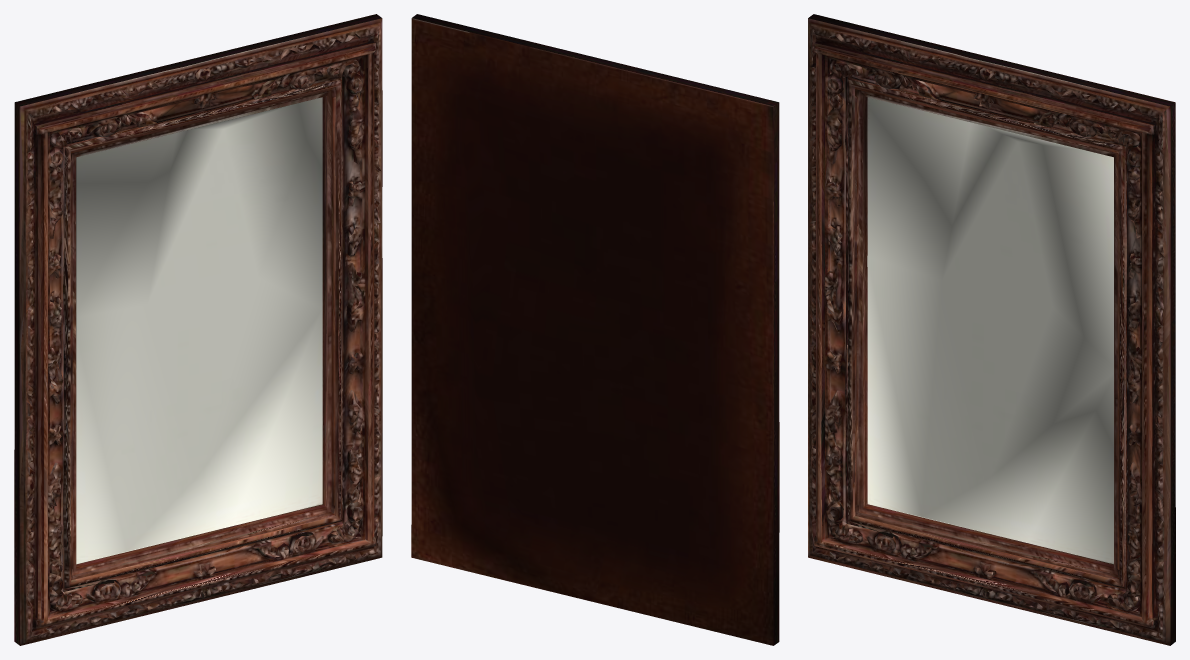
Rendered from frame.glb.
The picture shows the model from 3 angles, left to right: view 1: azimuth 30°, elevation 25°; view 2: azimuth 150°, elevation 25°; view 3: azimuth 330°, elevation 25°; orthographic projection.
Parts seen in each view (by area): view 1: frame; view 2: frame; view 3: frame.
Part boxes in pixels (box(x1,y1,x2,y2)): frame: box(14, 14, 382, 645); frame: box(411, 14, 779, 645); frame: box(808, 14, 1175, 645).
Size of the model in its own units: 0.7031 by 1 by 0.0455.
Materials: 1 (1 with a texture image).
